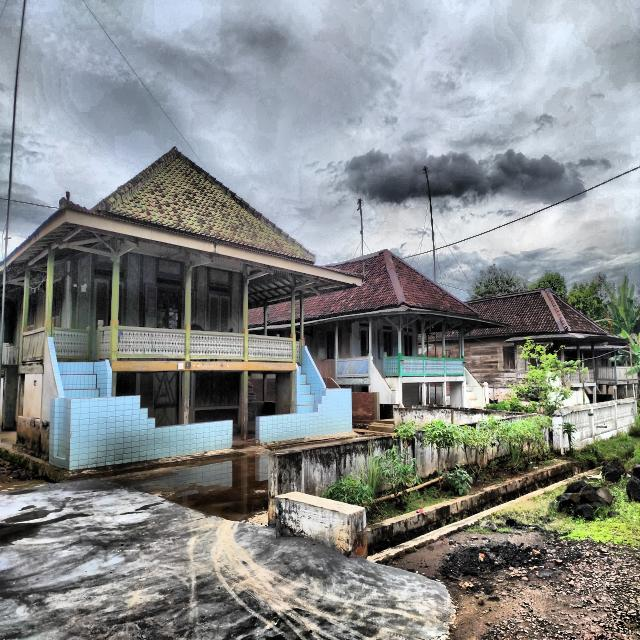column: (45, 250, 55, 327), (110, 262, 119, 326), (22, 270, 30, 333), (241, 371, 248, 440), (181, 371, 190, 424), (184, 271, 191, 330), (290, 291, 296, 339), (243, 284, 248, 334), (300, 299, 304, 338), (335, 323, 339, 359), (442, 322, 446, 358), (421, 321, 425, 354), (263, 305, 267, 336), (369, 317, 372, 356), (443, 382, 447, 407), (461, 327, 464, 358), (422, 383, 426, 406), (426, 333, 429, 357), (398, 331, 401, 353), (427, 383, 430, 404), (459, 328, 461, 358), (435, 332, 436, 358)
ornamen: (118, 326, 186, 359), (190, 331, 244, 360), (248, 334, 293, 362), (52, 327, 88, 359), (402, 356, 424, 376), (99, 326, 111, 359), (425, 357, 445, 376), (446, 358, 464, 376), (385, 357, 398, 376), (296, 342, 300, 362)
roof: (0, 146, 364, 310), (248, 249, 511, 332), (418, 287, 627, 343)
stair: (58, 362, 99, 398), (299, 374, 315, 413), (466, 384, 478, 407)
wall: (2, 250, 244, 444), (307, 316, 419, 407), (419, 337, 563, 389)
window: (503, 346, 515, 370)
